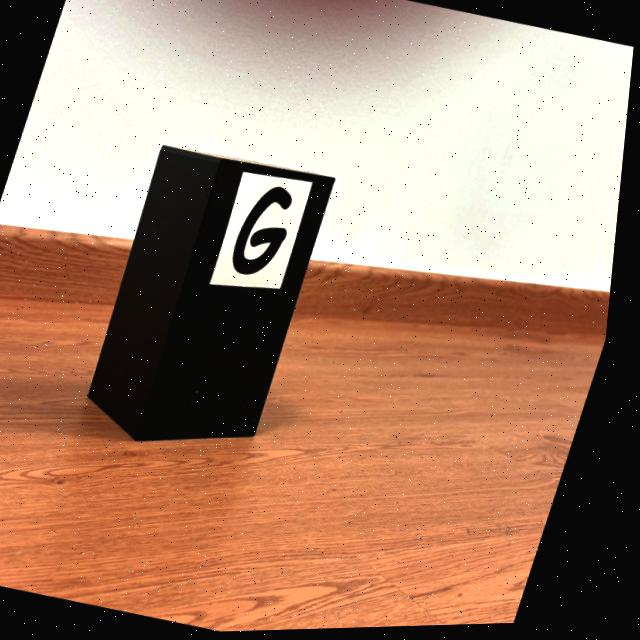G: (237, 188, 296, 276)
